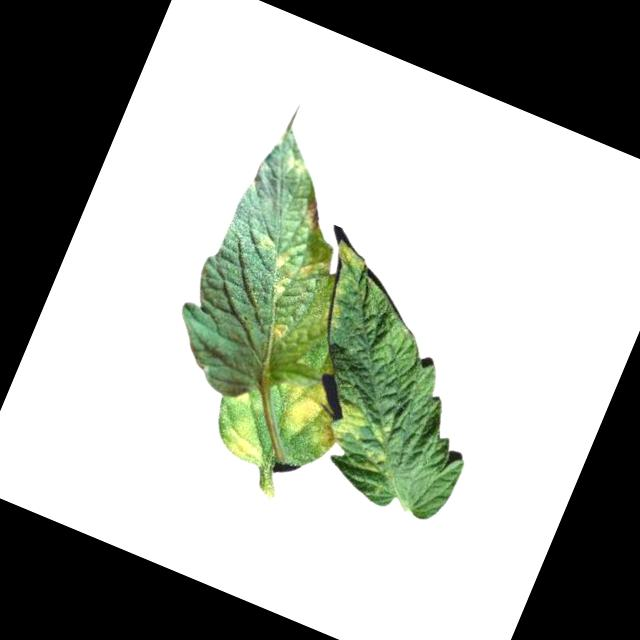Leaf_Mold: (267, 365, 352, 446), (326, 399, 400, 462), (256, 244, 320, 313), (220, 413, 277, 468), (296, 189, 335, 237), (269, 318, 294, 345)
